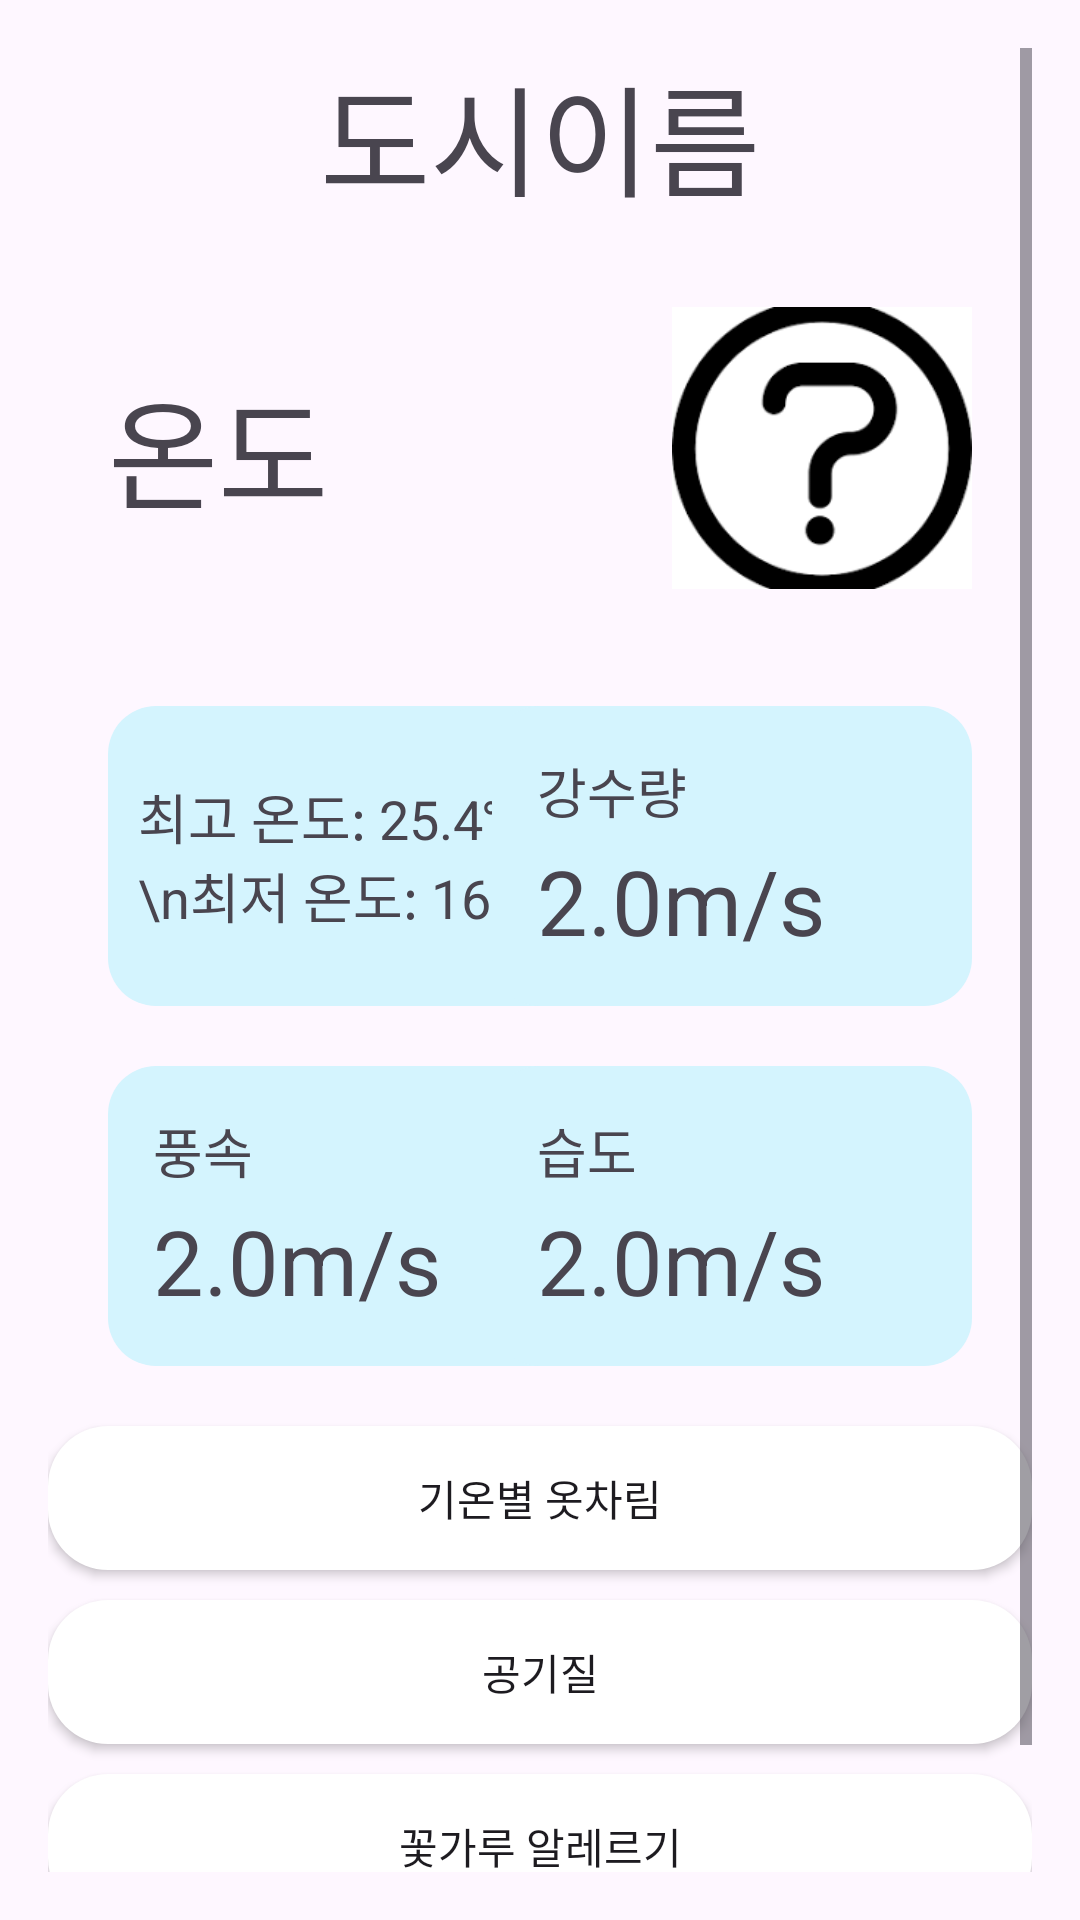

Named icons in this screenshot (1080w x 1920h) and their bounding boxes, (x1, y1, x2, y2):
unknown: (672, 307, 972, 589)
